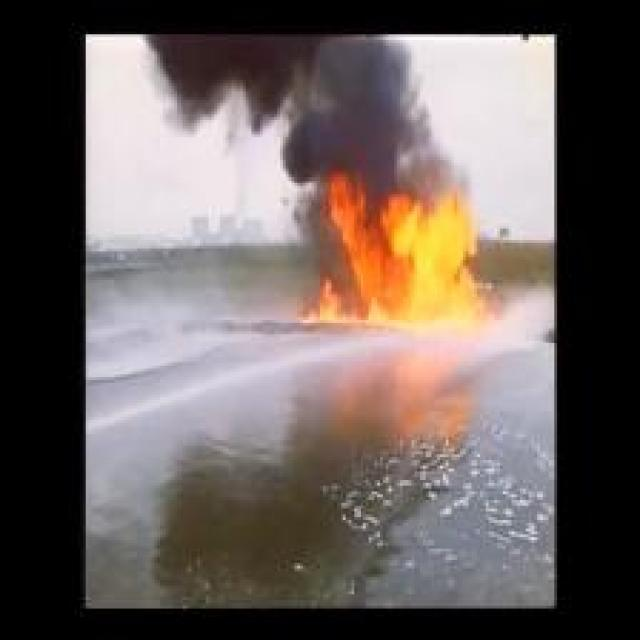Fire: (303, 173, 483, 330)
